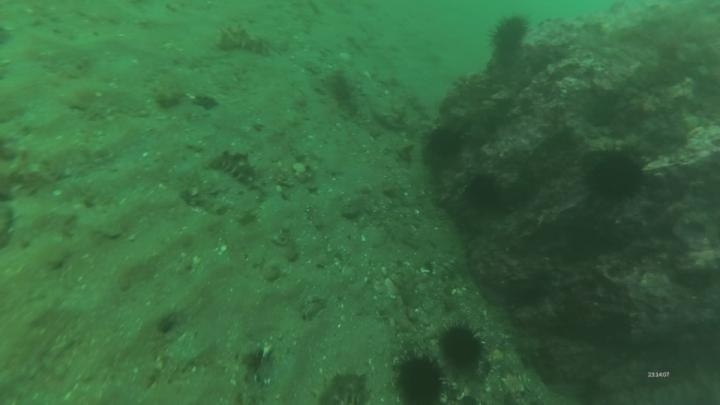echinus: (579, 144, 650, 207), (392, 352, 448, 404), (437, 321, 486, 372), (487, 12, 531, 59), (423, 123, 466, 165), (462, 171, 504, 213)
holothurian: (206, 146, 264, 190), (310, 367, 374, 405), (214, 21, 275, 58)
